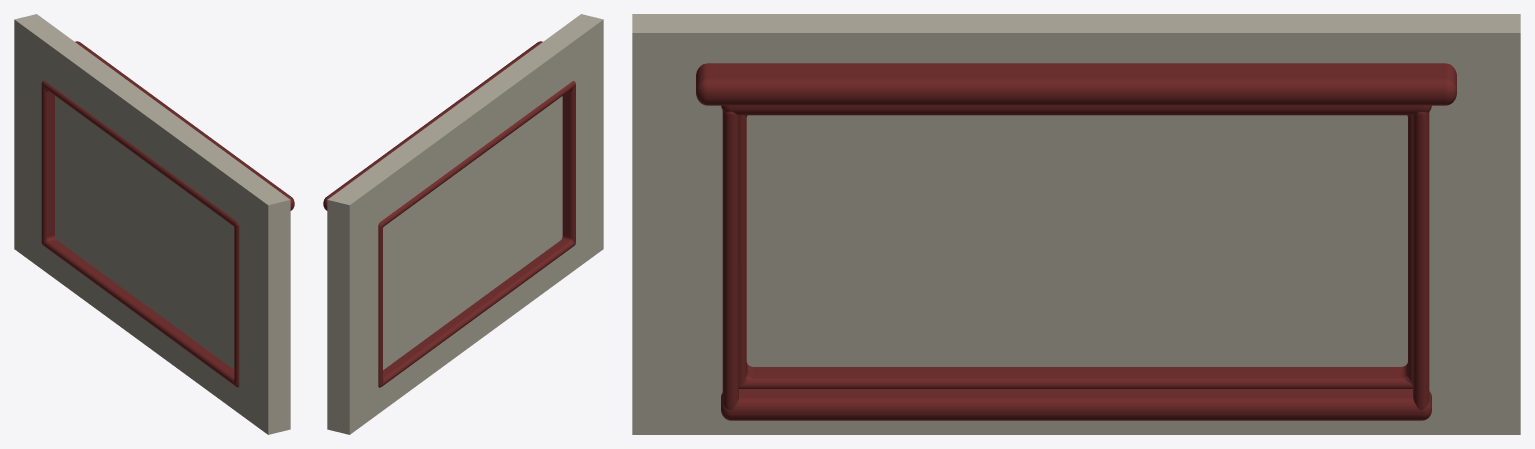
Rendered from wall_bigwindow_2x1.fbx.
The picture shows the model from 3 angles, left to right: view 1: azimuth 30°, elevation 25°; view 2: azimuth 150°, elevation 25°; view 3: azimuth 270°, elevation 25°; orthographic projection. The views are drawn at different scales.
Visible parts, largest first — view 1: wall_bigwindow_2x1.001; view 2: wall_bigwindow_2x1.001; view 3: wall_bigwindow_2x1.001.
Boxes of the visible parts, left/top/right/bottom form: wall_bigwindow_2x1.001: left=14, top=14, right=294, bottom=434; wall_bigwindow_2x1.001: left=323, top=14, right=603, bottom=434; wall_bigwindow_2x1.001: left=632, top=14, right=1520, bottom=434.
Size of the model in its own units: 22.53 by 99.82 by 200.
